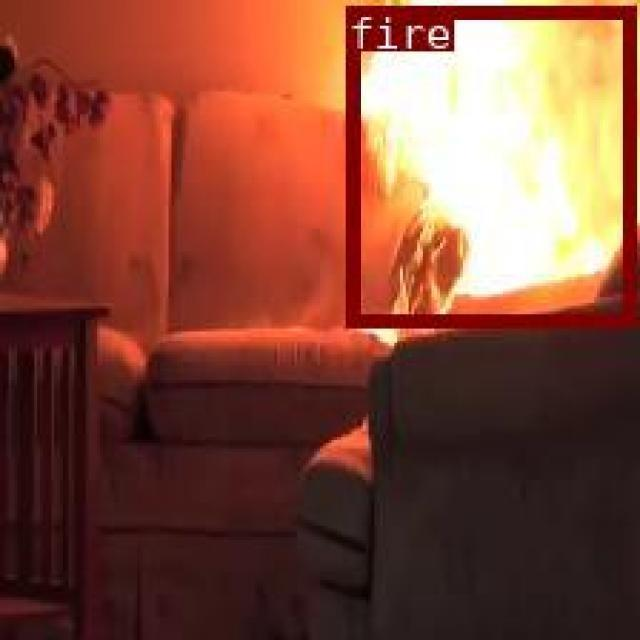fire: (344, 3, 634, 324)
